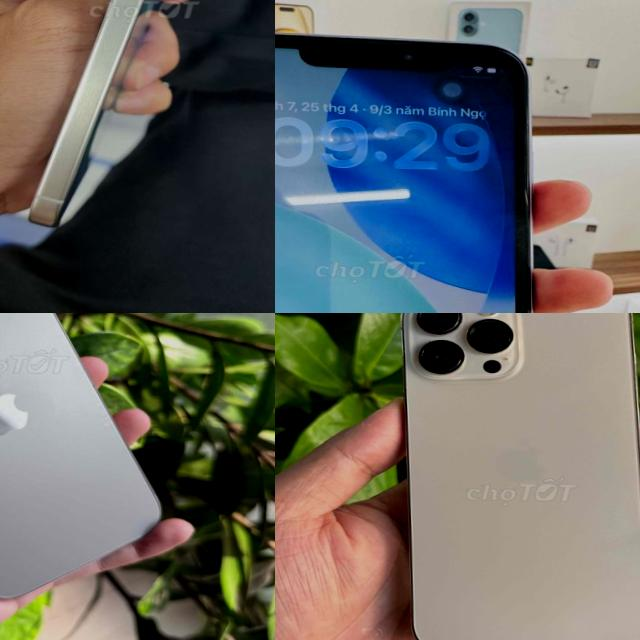gen_11: (275, 23, 555, 313)
gen_12_13: (395, 313, 640, 640)
gen_15: (0, 0, 251, 244), (0, 313, 179, 594)
